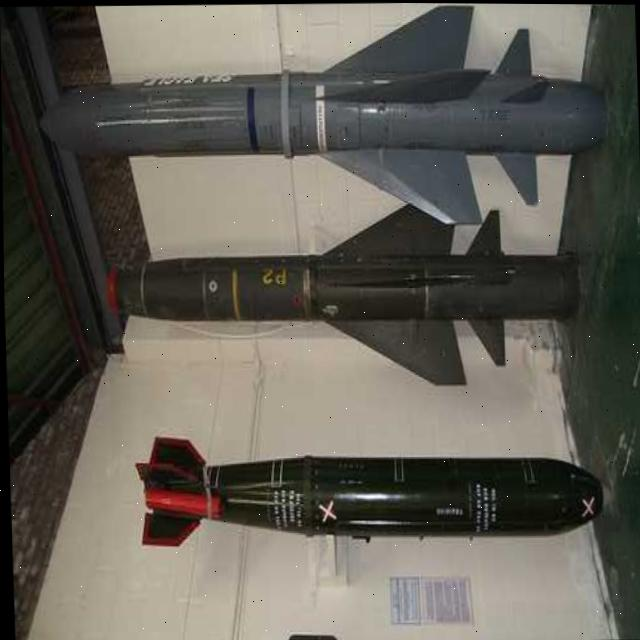missile: (39, 2, 608, 214), (108, 194, 573, 379), (130, 428, 604, 552)
